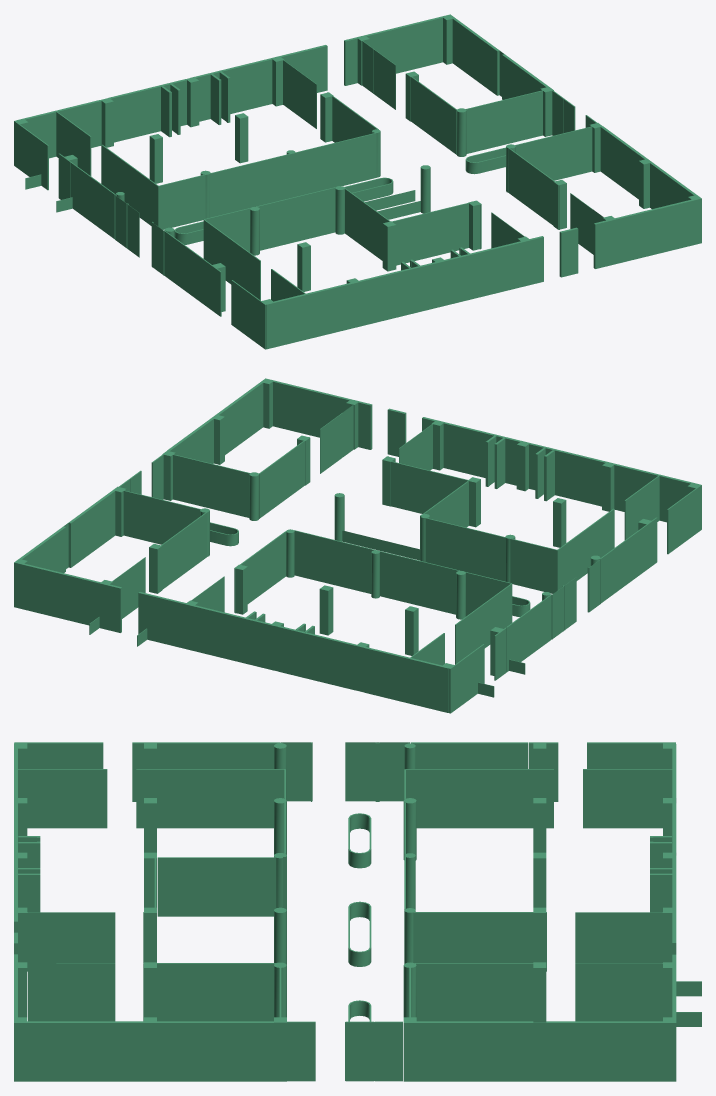
The model's file is AR05-21-modified-extruded-no-floor.fbx.
3 renders of one model, top to bottom at view 1: azimuth 30°, elevation 25°; view 2: azimuth 150°, elevation 25°; view 3: azimuth 270°, elevation 25°, orthographic. The views are drawn at different scales.
Visible parts, largest first — view 1: 3D Solid (×87); view 2: 3D Solid (×80), EXTRUDEDSURFACE; view 3: 3D Solid (×98), EXTRUDEDSURFACE.
Part boxes in pixels (<box>): 3D Solid (×87): <box>17,14,696,347</box>; 3D Solid (×80): <box>14,380,692,712</box>; EXTRUDEDSURFACE: <box>342,405,353,456</box>; 3D Solid (×98): <box>14,742,676,1081</box>; EXTRUDEDSURFACE: <box>28,963,56,1021</box>.
Size of the model in its own units: 42425 by 42423 by 4000.
